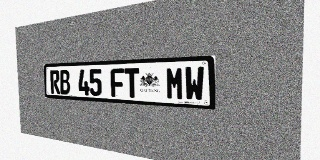4: (78, 69, 90, 96)
5: (89, 69, 102, 96)
B: (59, 70, 70, 95)
F: (110, 68, 125, 97)
M: (166, 67, 184, 100)
R: (50, 70, 60, 94)
T: (124, 68, 140, 98)
W: (184, 66, 204, 101)
